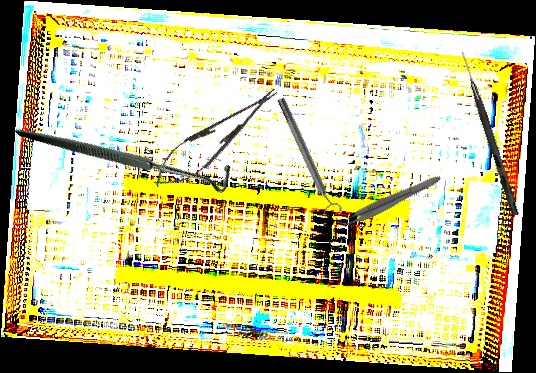Fixation Ring: (272, 94, 343, 219)
Hook Surgical: (13, 43, 240, 263), (456, 50, 522, 217)
Needle Holder: (145, 77, 287, 199)
Tissue Forceps: (335, 168, 443, 233)
